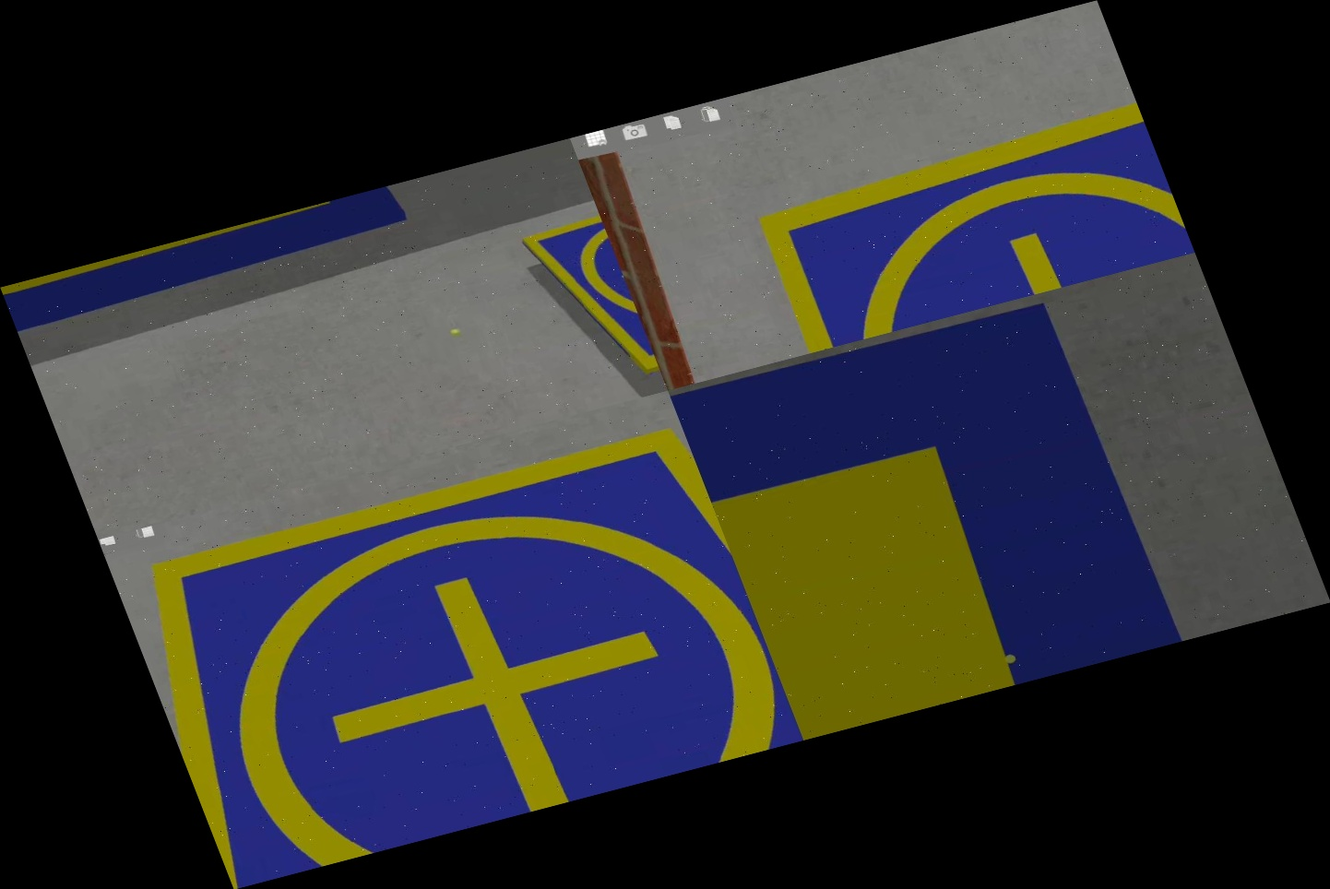large_base: (668, 280, 1223, 740), (0, 183, 423, 350)
small_base: (101, 399, 803, 888), (717, 79, 1194, 360), (505, 204, 662, 400)
